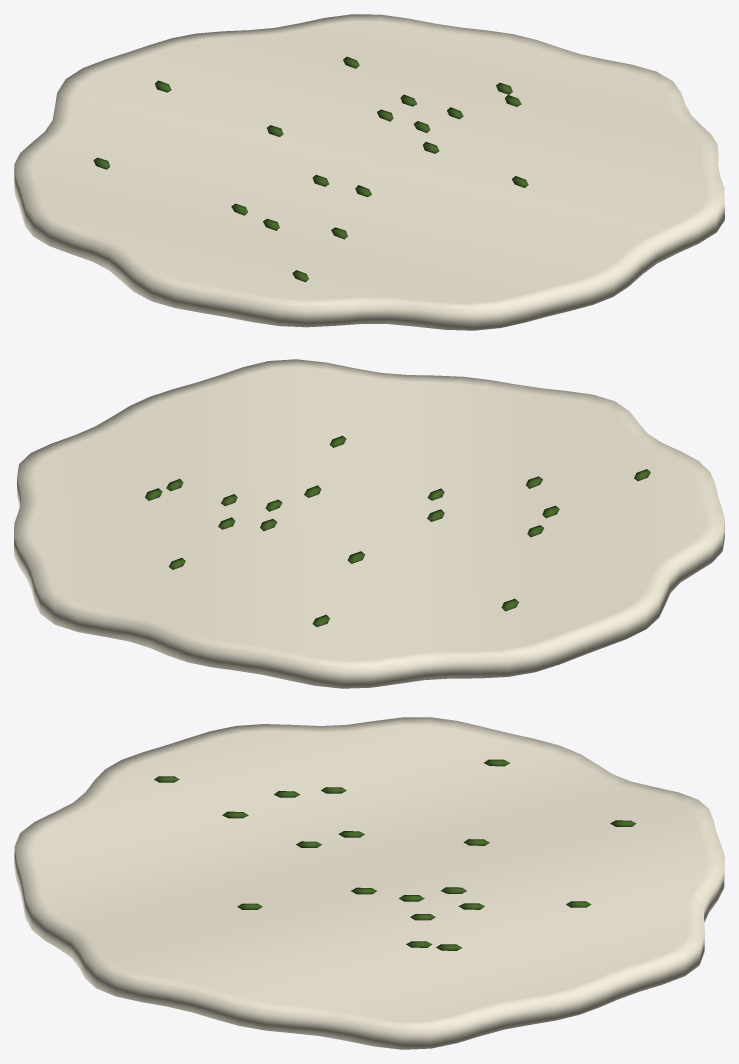
Rendered from sides-ranch.glb.
3 views of the same model, one above another, from view 1: azimuth 30°, elevation 25°; view 2: azimuth 150°, elevation 25°; view 3: azimuth 270°, elevation 25° (orthographic).
Parts seen in each view (by area): view 1: Smooth ranch dip; view 2: Smooth ranch dip; view 3: Smooth ranch dip.
Boxes of the visible parts, box(x1,y1,x2,y2) form: Smooth ranch dip: box(14, 14, 724, 330); Smooth ranch dip: box(14, 359, 724, 688); Smooth ranch dip: box(14, 717, 724, 1049).
Size of the model in its own units: 0.5855 by 0.0301 by 0.576.
